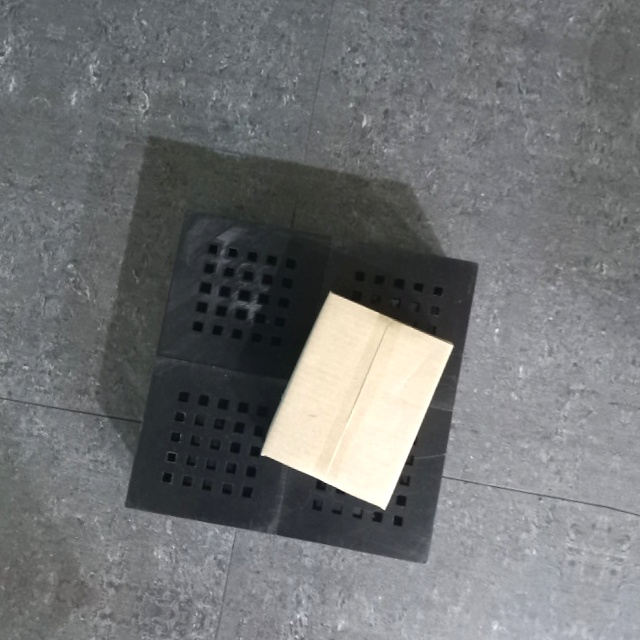box: (257, 286, 454, 522)
pallet: (113, 205, 497, 574)
